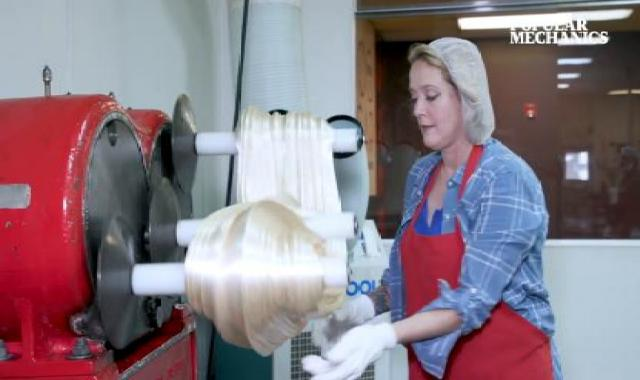hairnet: (414, 34, 502, 144)
